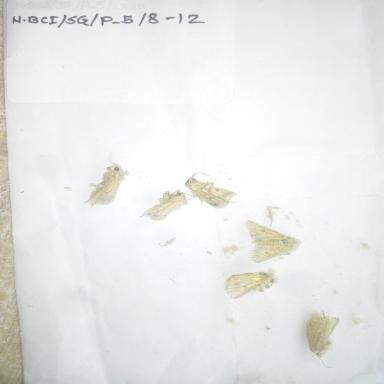abw: (232, 218, 311, 268), (291, 304, 348, 361), (78, 149, 132, 209), (136, 185, 198, 228), (181, 170, 240, 214), (214, 269, 278, 304)
